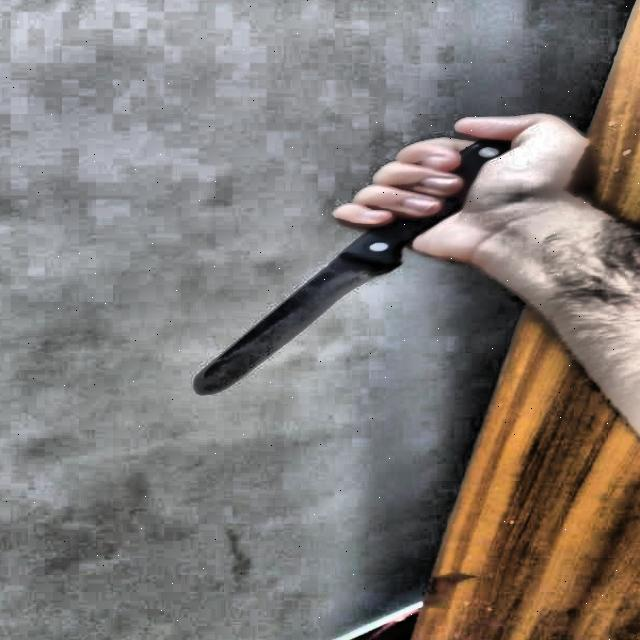knife: (196, 144, 510, 396)
